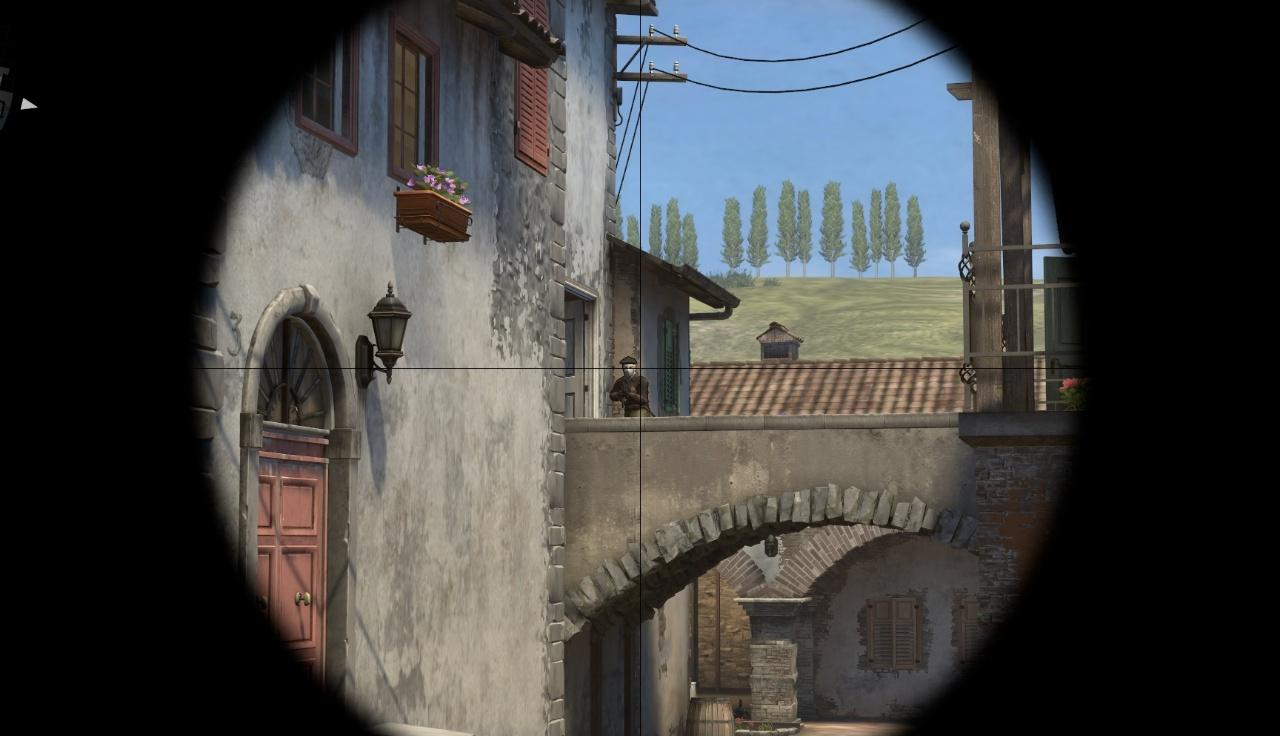tt: (618, 357, 650, 418)
tthead: (620, 358, 636, 376)
